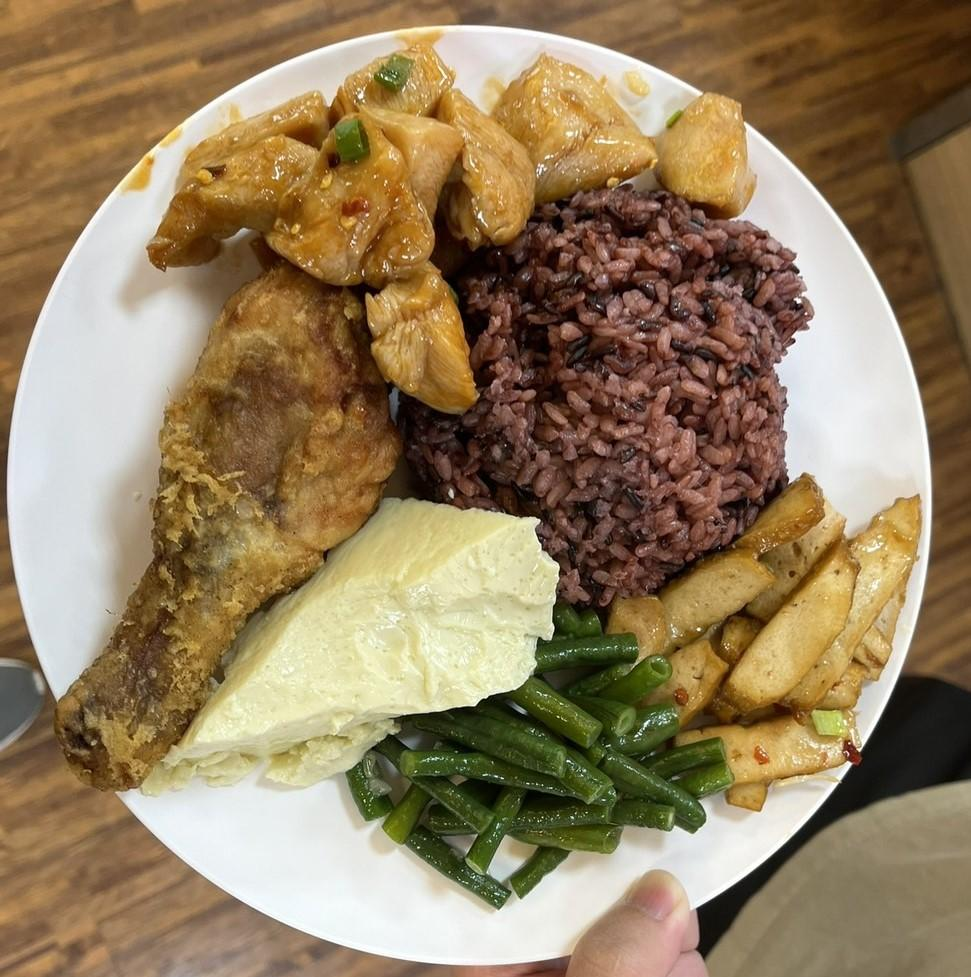big fried chicken leg: (8, 14, 937, 949)
braised fish: (413, 198, 810, 599)
braised fish fillet: (143, 486, 550, 803), (621, 474, 924, 800), (359, 616, 700, 885)
braised pork: (160, 36, 765, 400), (37, 256, 400, 792)
